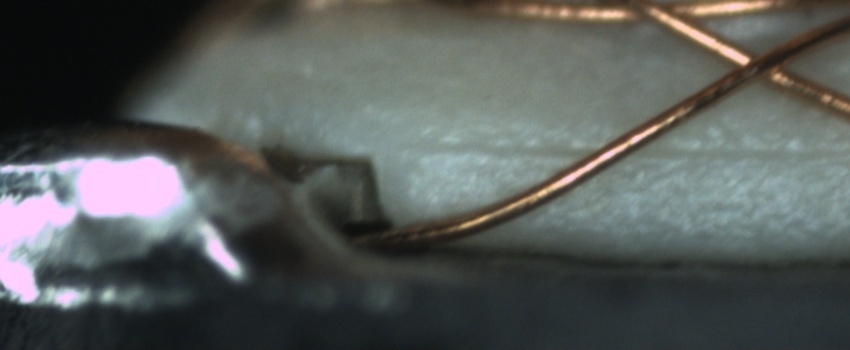CL: (716, 35, 804, 93)
DL: (400, 127, 850, 180)
